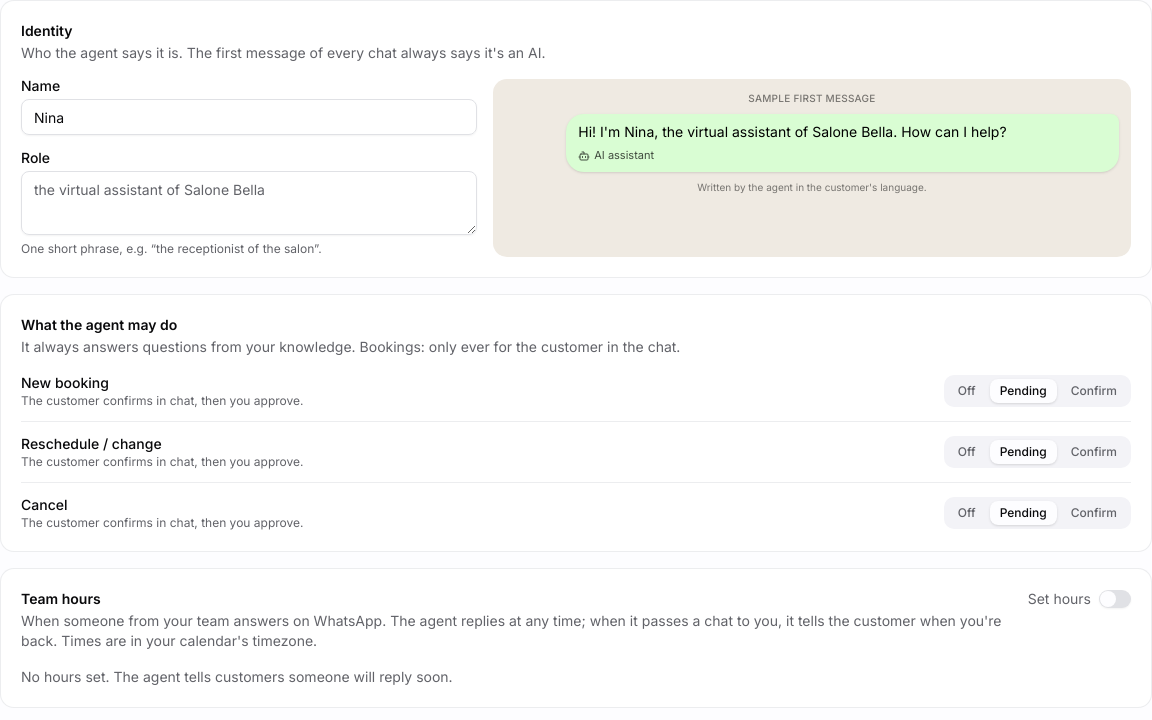
SettingsTab › discard restores the saved values
Step 1. Type "x" into the field labelled "Name" → (249, 117), box [21, 99, 477, 135]
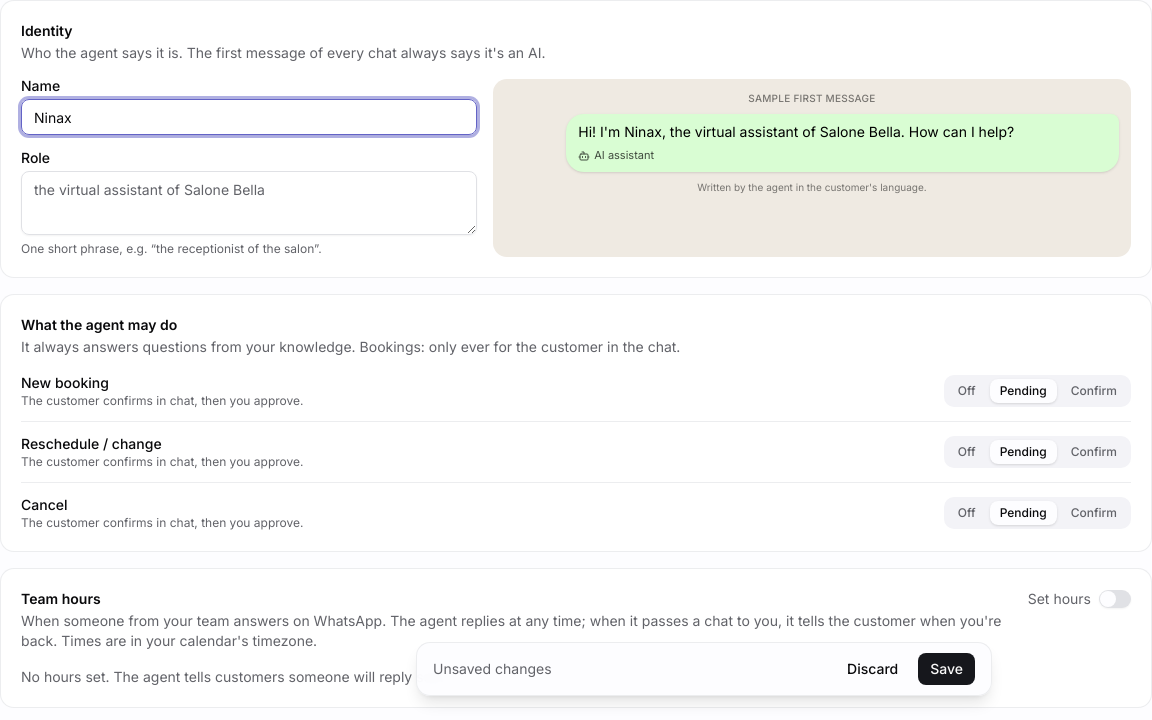
Step 2. Click the button "Discard" → (873, 669), box [835, 653, 910, 685]
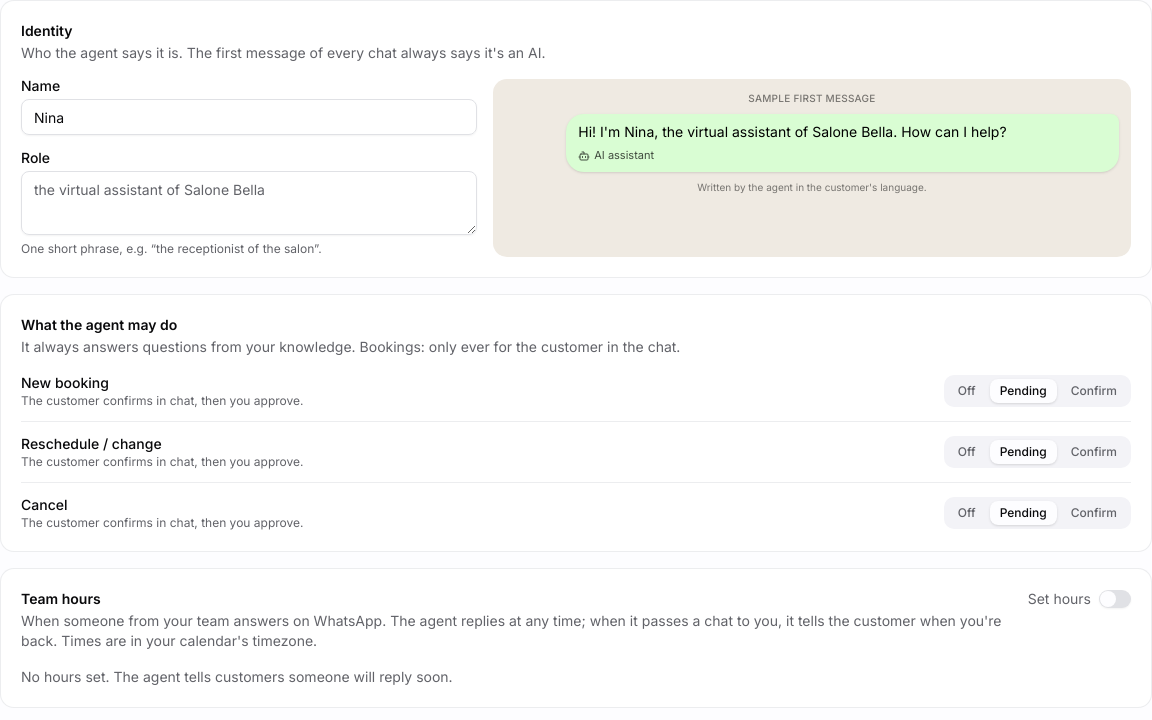
Now the field labelled "Name" holds "Nina", box [21, 99, 477, 135]
